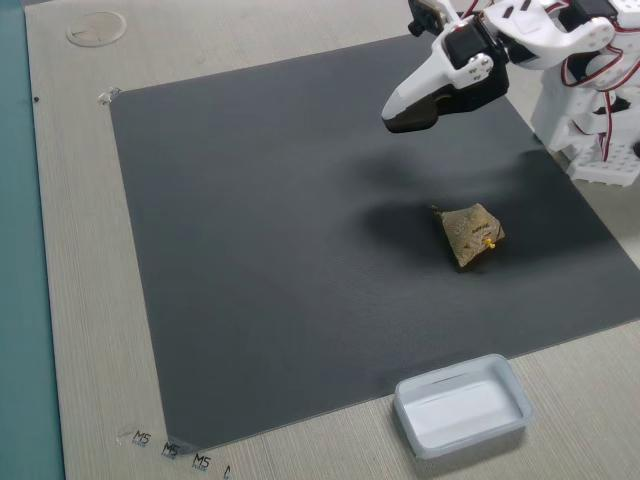objects: (357, 0, 501, 121)
